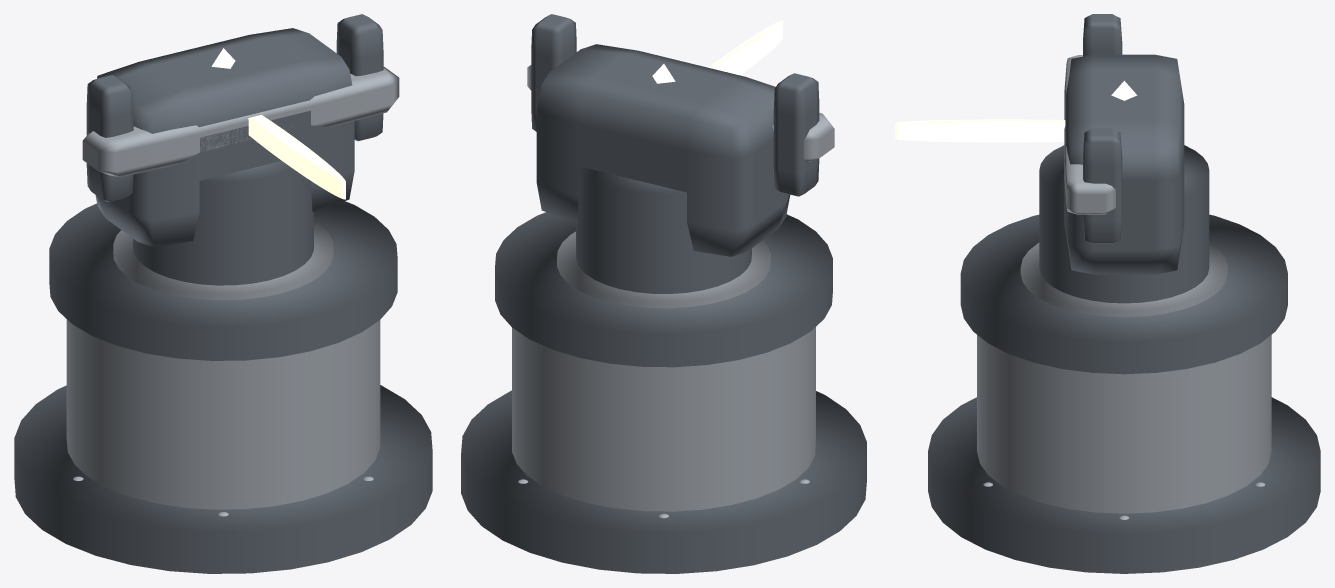
Rendered from ballista.glb.
3 renders of one model, left to right at view 1: azimuth 30°, elevation 25°; view 2: azimuth 150°, elevation 25°; view 3: azimuth 270°, elevation 25°, orthographic. The views are drawn at different scales.
Visible parts, largest first — view 1: base, footing, baseCollar, frame, shaft, crossbow, lowerTrim, armL, armR, bolt; view 2: base, frame, footing, baseCollar, shaft, armL, lowerTrim, armR, bolt, crossbow; view 3: base, footing, baseCollar, frame, shaft, lowerTrim, bolt, armR, crossbow, armL.
Part boxes in pixels (x1,y1,x2,y2): base: [66, 319, 380, 509]; footing: [14, 385, 432, 573]; baseCollar: [49, 201, 397, 360]; frame: [95, 28, 354, 246]; shaft: [133, 161, 313, 285]; crossbow: [82, 67, 399, 177]; lowerTrim: [113, 221, 333, 300]; armL: [86, 75, 133, 202]; armR: [336, 14, 383, 141]; bolt: [248, 115, 345, 199]; base: [512, 327, 815, 511]; frame: [536, 44, 790, 256]; footing: [461, 390, 866, 573]; baseCollar: [495, 212, 832, 367]; shaft: [576, 166, 751, 293]; armL: [773, 73, 819, 196]; lowerTrim: [557, 231, 770, 308]; armR: [531, 14, 576, 131]; bolt: [708, 20, 782, 75]; crossbow: [527, 65, 834, 161]; base: [977, 335, 1271, 513]; footing: [928, 397, 1320, 573]; baseCollar: [960, 214, 1287, 374]; frame: [1064, 54, 1184, 274]; shaft: [1039, 145, 1209, 303]; lowerTrim: [1020, 242, 1227, 317]; bolt: [895, 119, 1065, 142]; armR: [1083, 128, 1122, 243]; crossbow: [1064, 55, 1115, 214]; armL: [1083, 14, 1122, 56].
Bounding box in the file's own units: 1.8 × 2.1 × 1.95.
